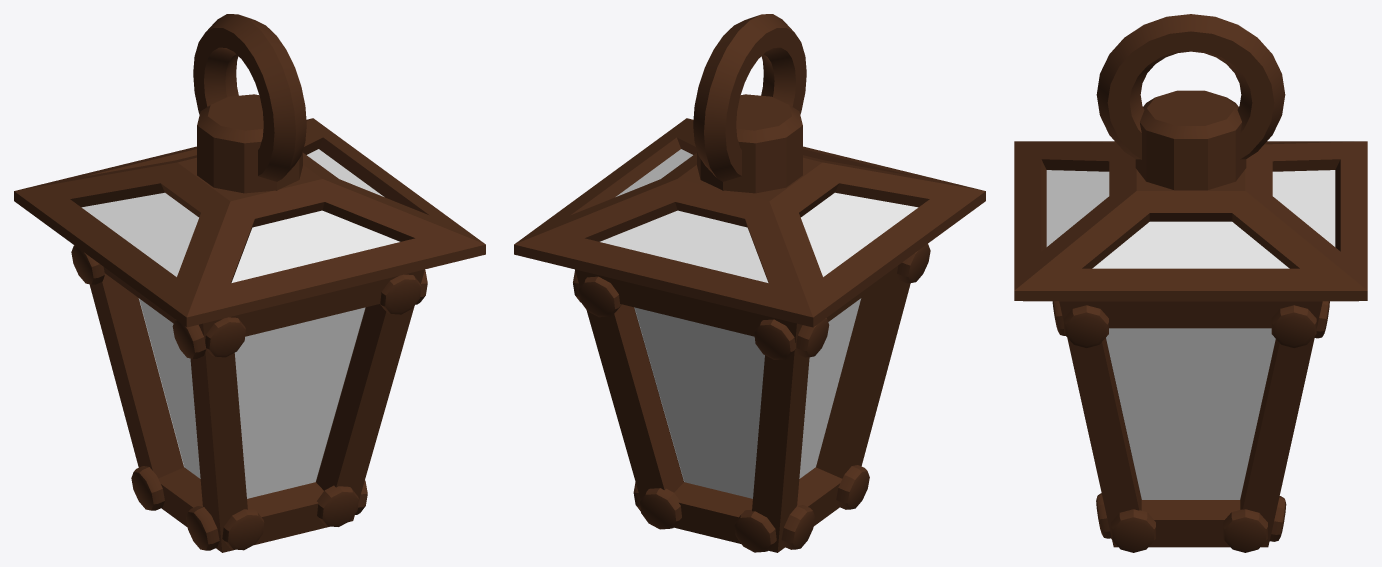
File: AteşBöceğiKutusu.fbx
3 renders of one model, left to right at view 1: azimuth 30°, elevation 25°; view 2: azimuth 150°, elevation 25°; view 3: azimuth 270°, elevation 25°, orthographic. The views are drawn at different scales.
Parts seen in each view (by area): view 1: FireflyBox; view 2: FireflyBox; view 3: FireflyBox.
Part boxes in pixels (x1,y1,x2,y2): FireflyBox: (14, 14, 485, 552); FireflyBox: (514, 14, 985, 552); FireflyBox: (1014, 14, 1367, 552).
Bounding box in the file's own units: 35.64 × 55.86 × 35.64.
